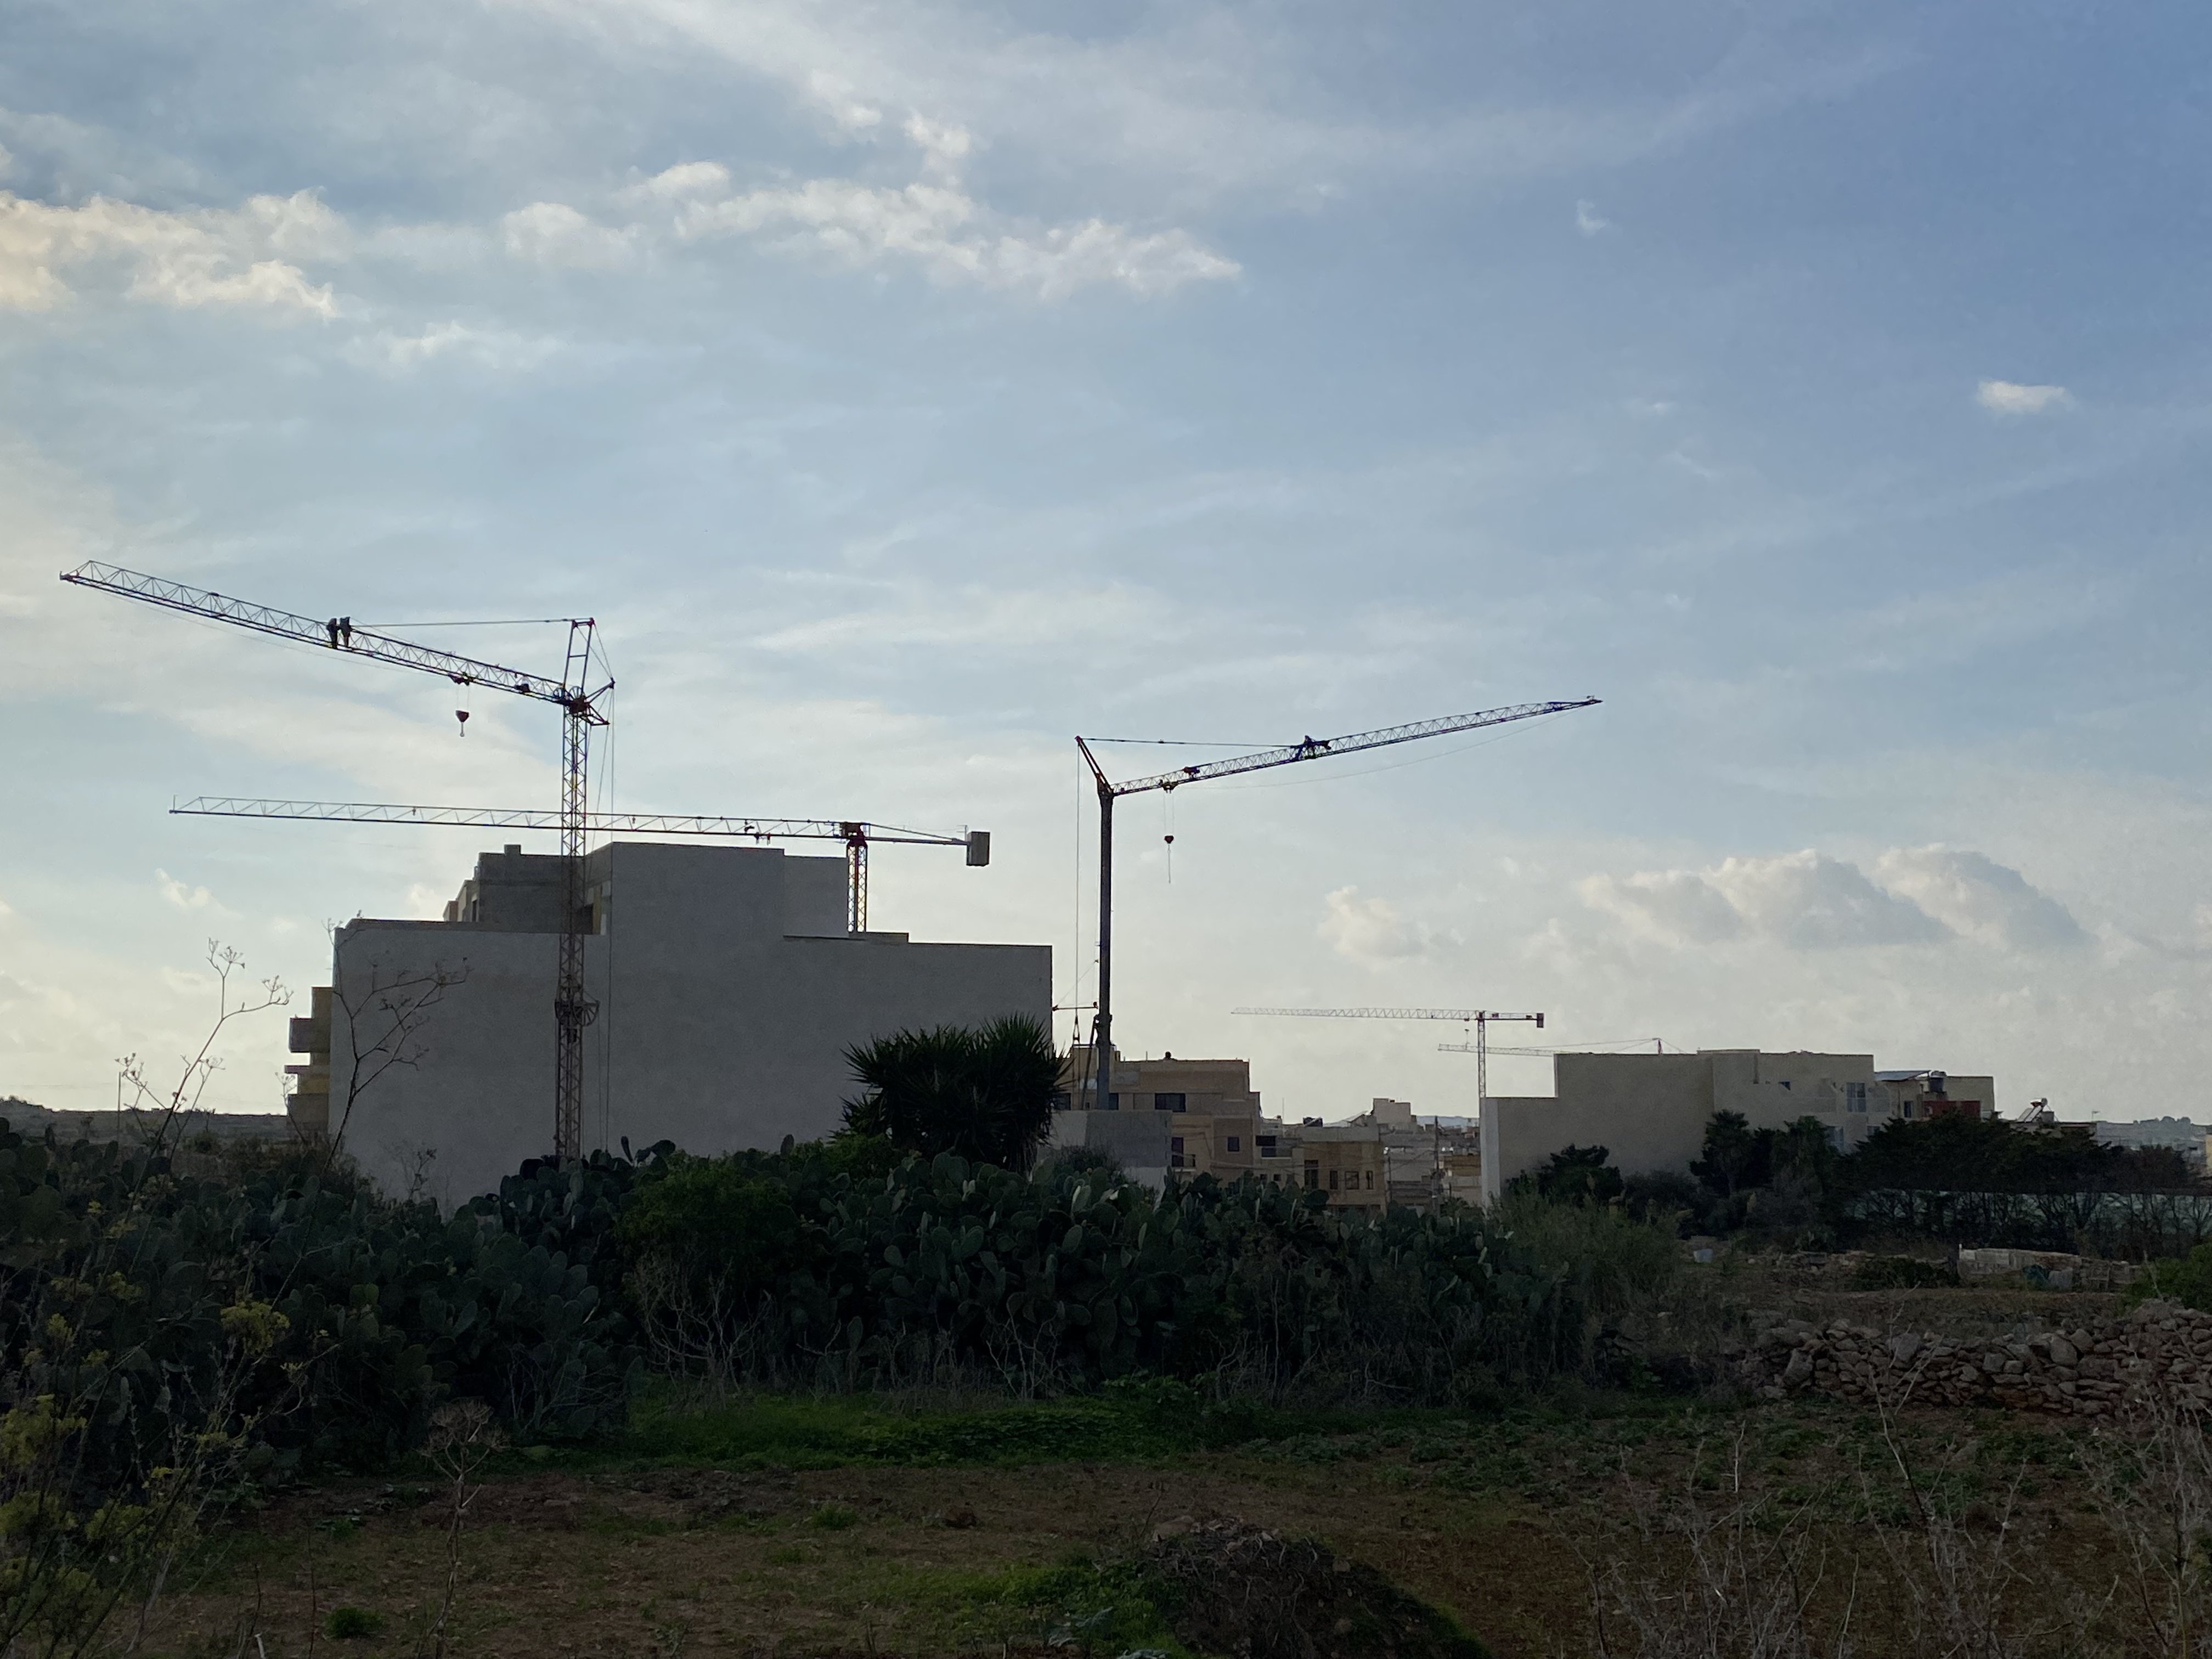crane: (1044, 665, 1730, 949), (19, 518, 647, 770), (101, 749, 1051, 901), (1242, 974, 1618, 1070)
